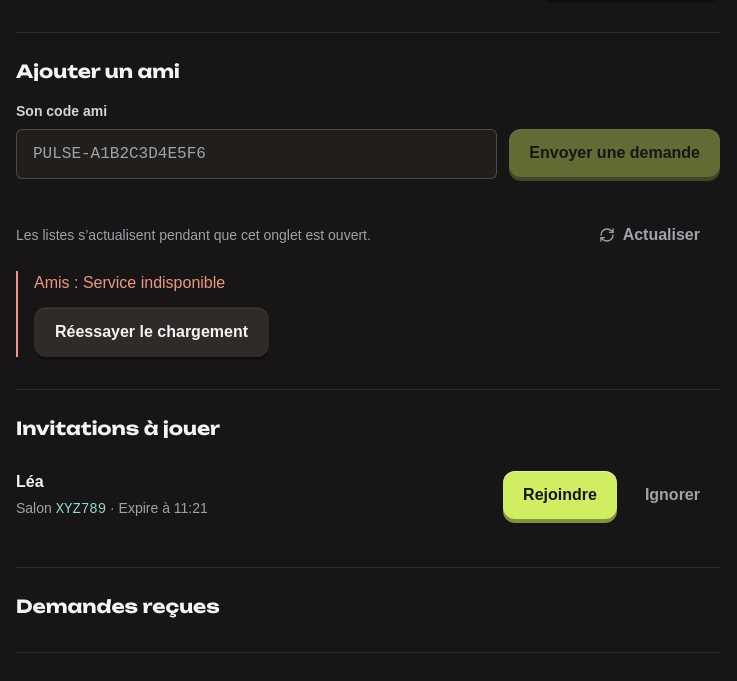
Test: Friends › keeps successful invitation data when the friends list fails and can reload
(page scrolled)
Expected: the message reads "Amis : Service indisponible", [34,274,225,291]
Expected: the text "Pas encore d’amis ici" is not shown
Click the button "Réessayer le chargement" at (152, 332), box [34,307,269,357]
(page scrolled)
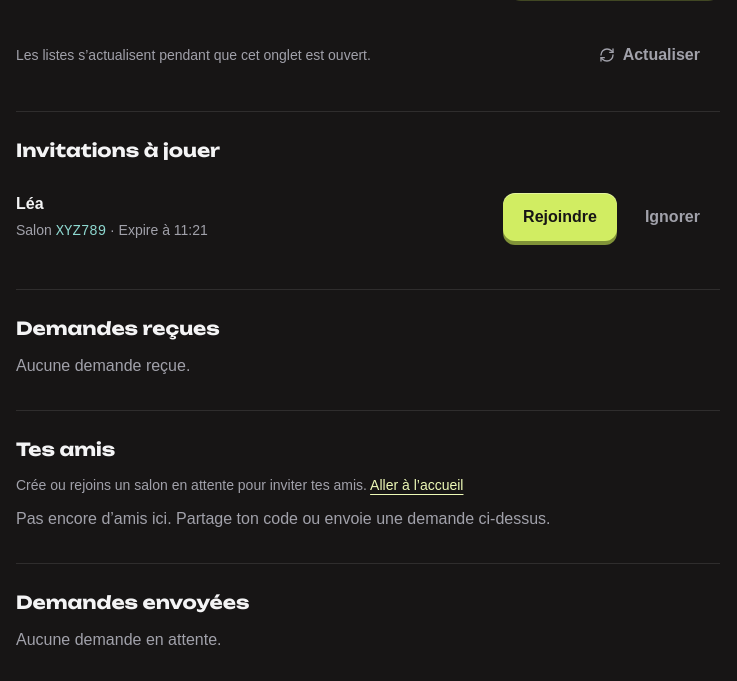
Result: the text "Pas encore d’amis ici" is shown at [16,510,550,527]
Result: the message "Amis : Service indisponible" is gone
